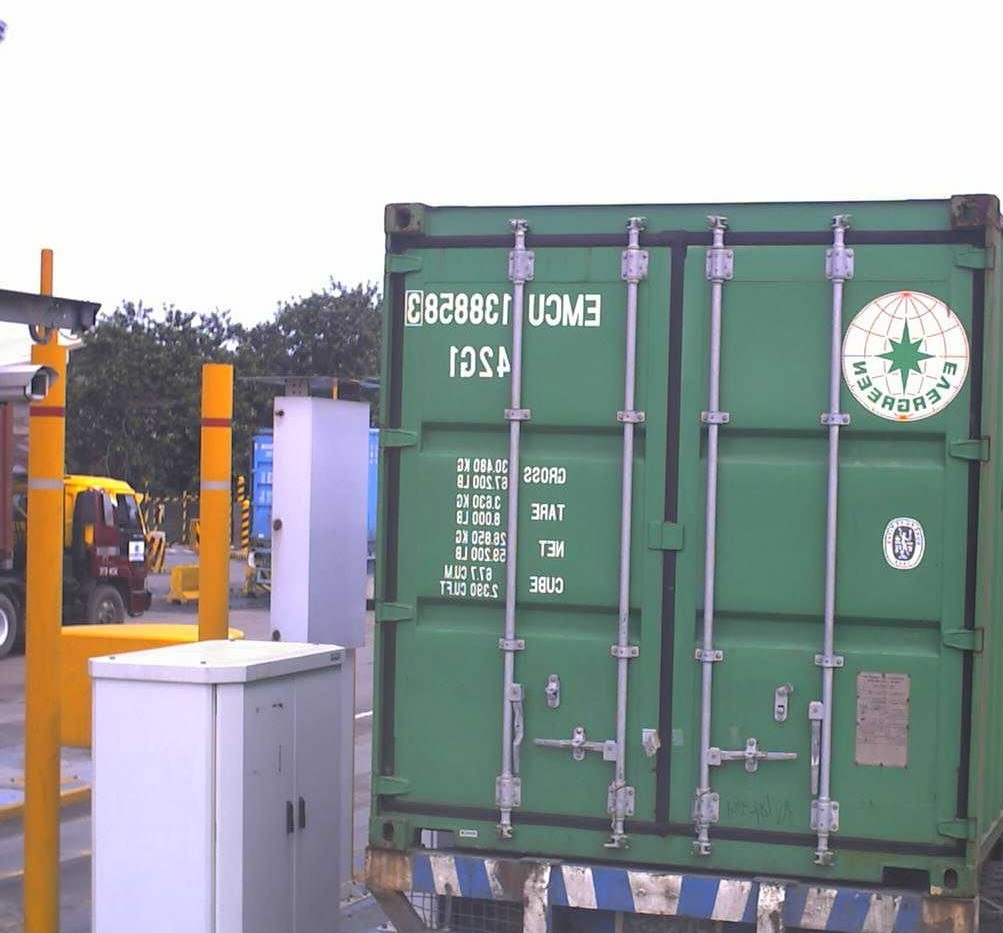container_door: (375, 196, 971, 893)
